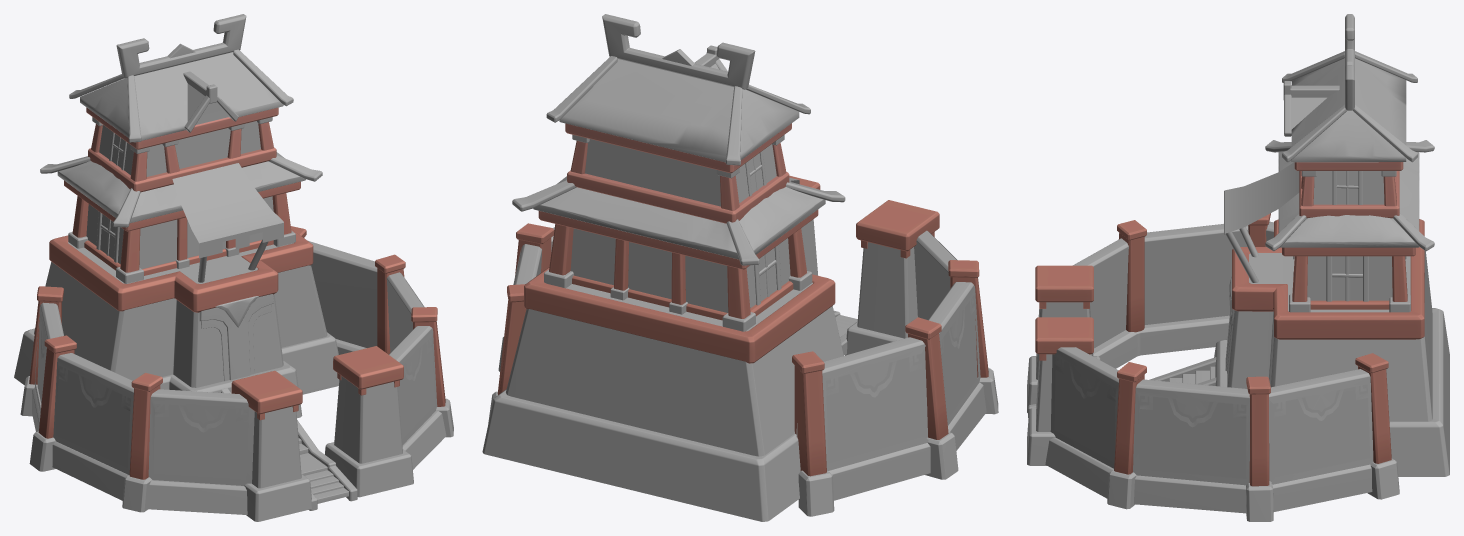
File: building_056_zhulou.fbx
3 views of the same model, side by side, from view 1: azimuth 30°, elevation 25°; view 2: azimuth 150°, elevation 25°; view 3: azimuth 270°, elevation 25° (orthographic). The views are drawn at different scales.
Visible parts, largest first — view 1: building_056_zhulou; view 2: building_056_zhulou; view 3: building_056_zhulou.
Boxes of the visible parts, box(x1,y1,x2,y2) form: building_056_zhulou: box(14, 14, 453, 521); building_056_zhulou: box(482, 14, 998, 521); building_056_zhulou: box(1027, 14, 1449, 521).
Size of the model in its own units: 574 by 523 by 526.
6 materials, 1 textured.
